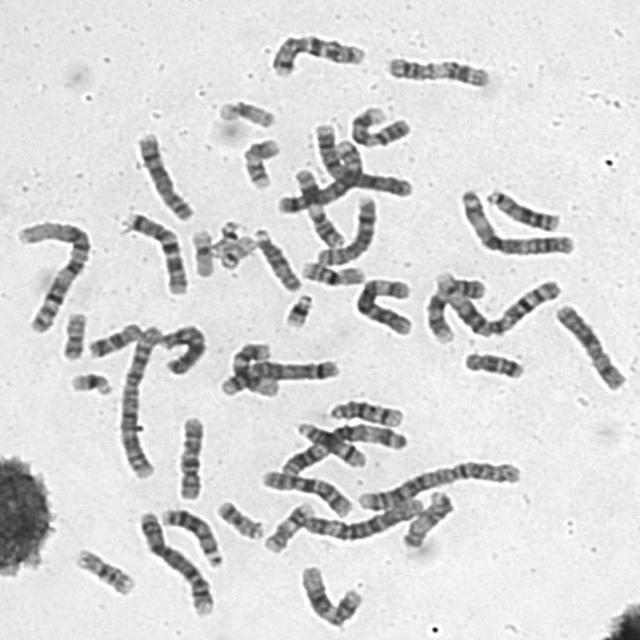A1: (10, 219, 93, 333), (436, 266, 562, 338)
A2: (358, 459, 522, 513), (119, 325, 164, 480)
A3: (459, 187, 578, 257), (281, 422, 408, 476)
B4: (139, 509, 218, 617), (313, 122, 414, 198)
B5: (275, 139, 363, 214), (220, 358, 344, 397)
C10: (261, 470, 355, 518), (179, 414, 205, 500)
C11: (295, 168, 346, 248), (383, 55, 491, 88)
C12: (296, 564, 364, 629), (231, 339, 282, 396)
C6: (302, 494, 425, 542), (354, 278, 413, 337)
C7: (121, 212, 189, 294), (265, 29, 370, 79)
C8: (132, 132, 196, 222), (318, 197, 381, 266)
C9: (425, 278, 491, 343), (350, 107, 417, 148)
D13: (159, 506, 225, 567), (488, 190, 567, 231)
D14: (296, 420, 366, 468), (328, 399, 403, 429)
D15: (403, 489, 458, 549), (254, 228, 302, 292)
E16: (71, 548, 137, 598), (298, 261, 365, 288)
E17: (263, 502, 315, 555), (243, 139, 280, 190)
E18: (89, 320, 144, 360), (464, 350, 526, 380)
F19: (219, 99, 276, 130), (192, 229, 214, 280)
F20: (216, 501, 265, 541), (62, 312, 90, 360)
G21: (281, 292, 316, 328), (71, 370, 113, 398)
G22: (220, 234, 258, 272), (210, 220, 242, 258)
X: (558, 303, 630, 392), (157, 320, 208, 376)
